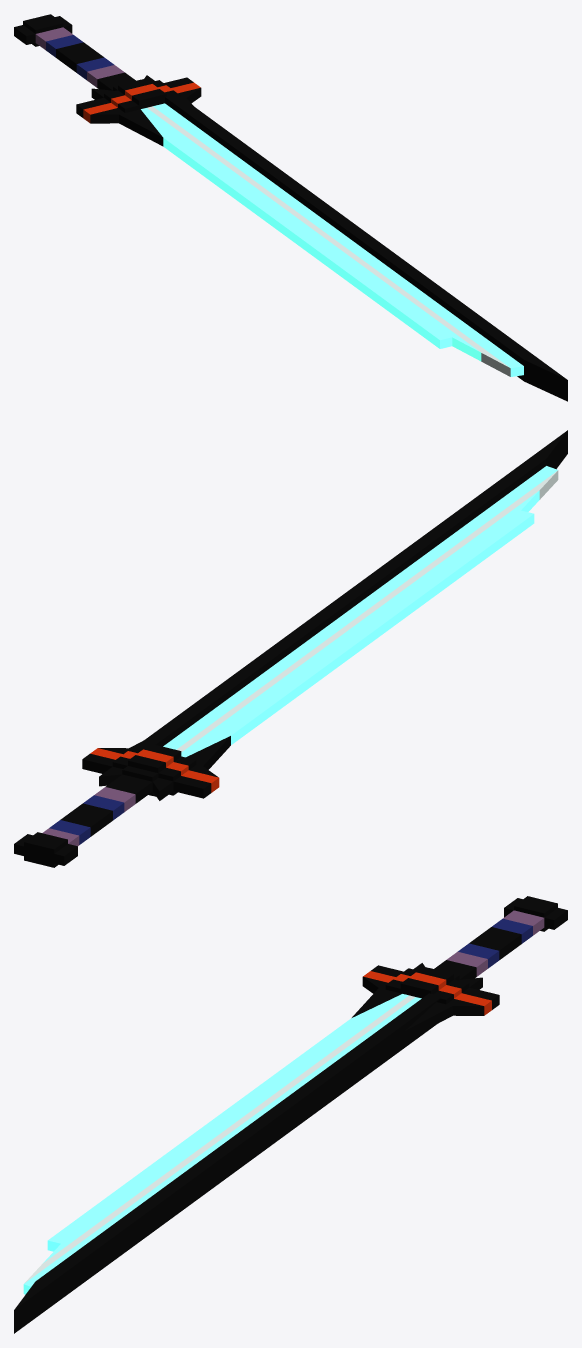
File: 吞噬者.fbx
3 views of the same model, one above another, from view 1: azimuth 30°, elevation 25°; view 2: azimuth 150°, elevation 25°; view 3: azimuth 330°, elevation 25° (orthographic). The views are drawn at different scales.
Visible parts, largest first — view 1: Plane; view 2: Plane; view 3: Plane.
Part boxes in pixels (x1,y1,x2,y2): Plane: (14, 14, 567, 401); Plane: (14, 430, 567, 867); Plane: (14, 896, 567, 1333).
Size of the model in its own units: 239 by 55.08 by 1894.
